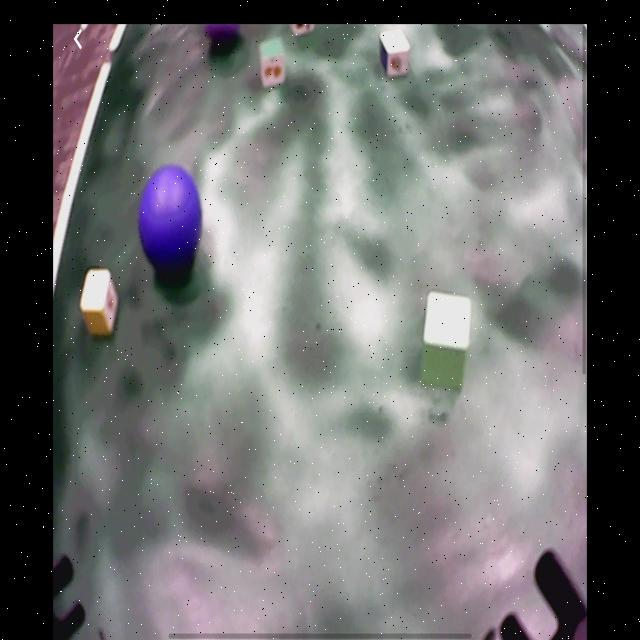ball: (139, 164, 202, 271), (202, 24, 241, 42)
